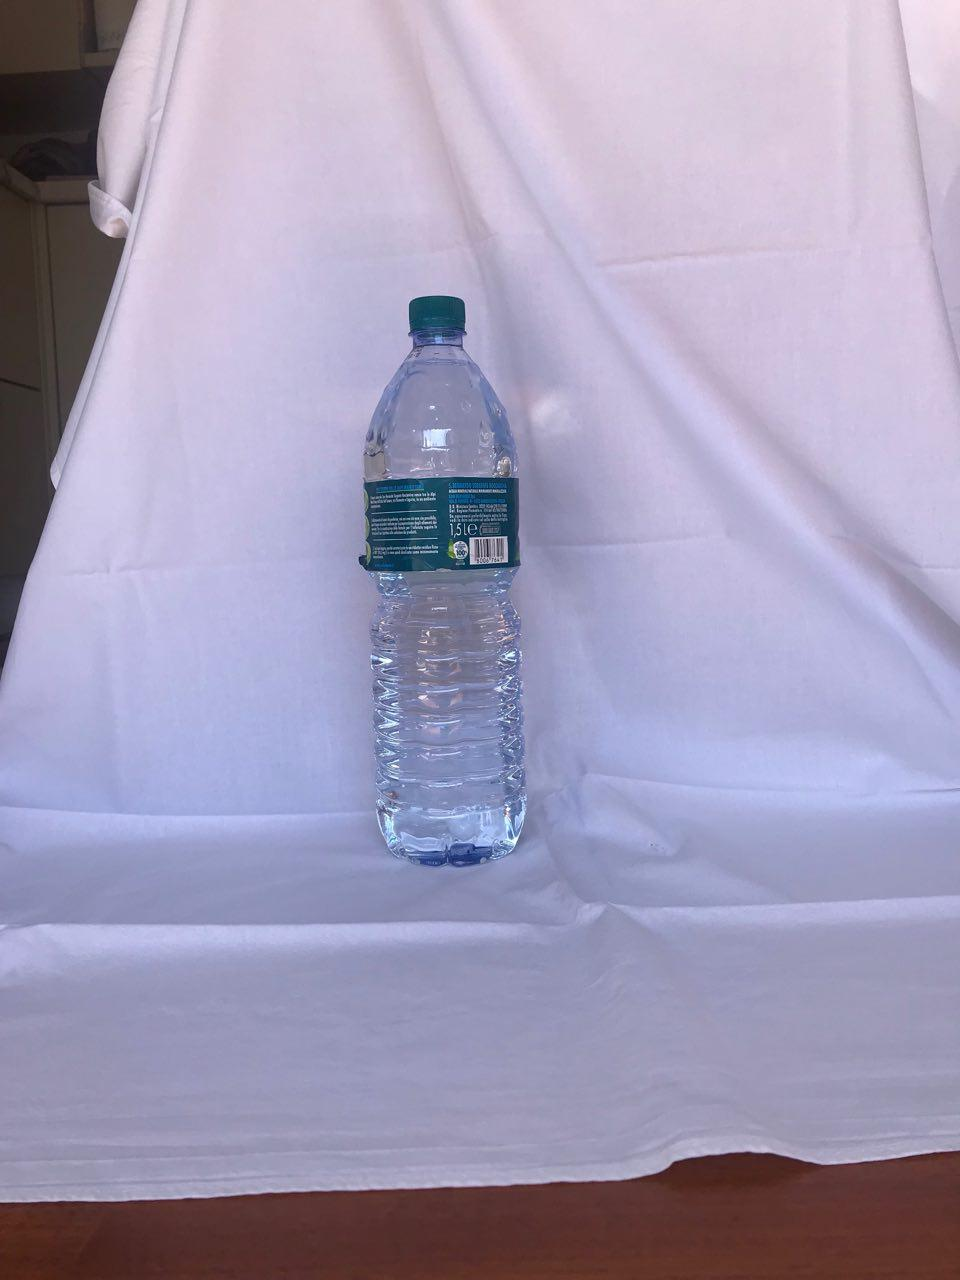san_bernardo: (360, 294, 529, 867)
